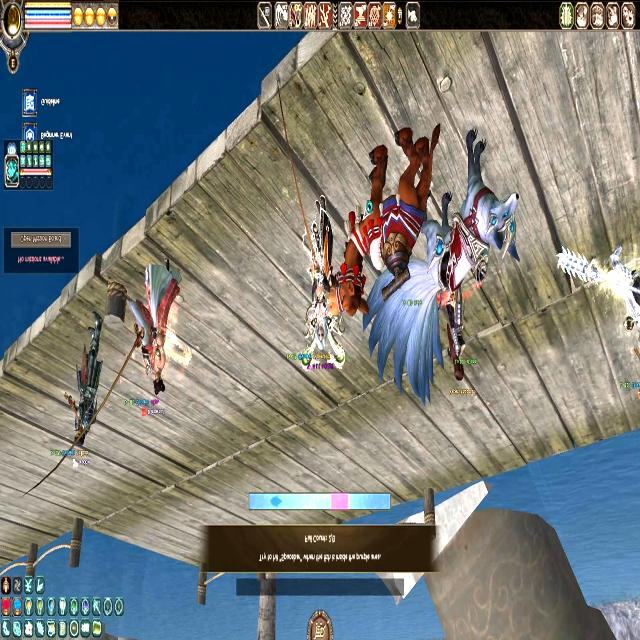fishes: (270, 495, 282, 509)
